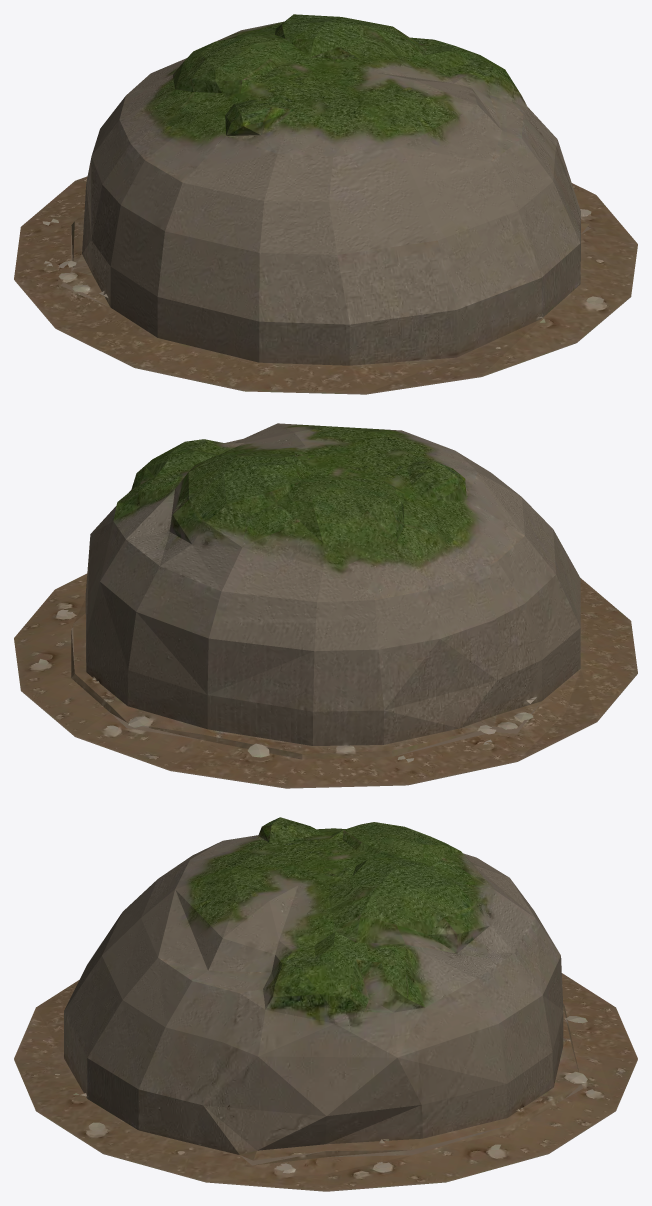
File: rock_single_LOD1.glb
3 views of the same model, one above another, from view 1: azimuth 30°, elevation 25°; view 2: azimuth 150°, elevation 25°; view 3: azimuth 270°, elevation 25° (orthographic).
Parts seen in each view (by area): view 1: rock_single_LOD1; view 2: rock_single_LOD1; view 3: rock_single_LOD1.
Boxes of the visible parts, x1=… form: rock_single_LOD1: x1=14, y1=14, x2=637, y2=394; rock_single_LOD1: x1=14, y1=423, x2=637, y2=788; rock_single_LOD1: x1=14, y1=817, x2=637, y2=1191.
Size of the model in its own units: 0.9993 by 0.3657 by 0.9993.
Materials: 1 (1 with a texture image).
